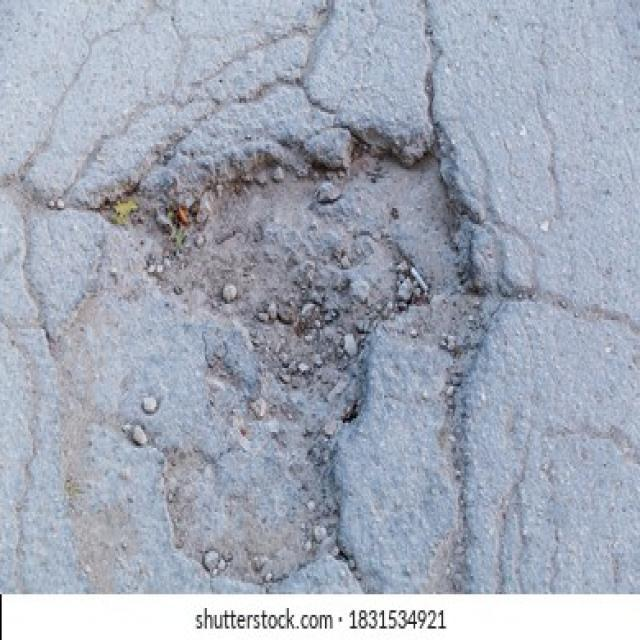Pothole: (108, 112, 517, 592)
